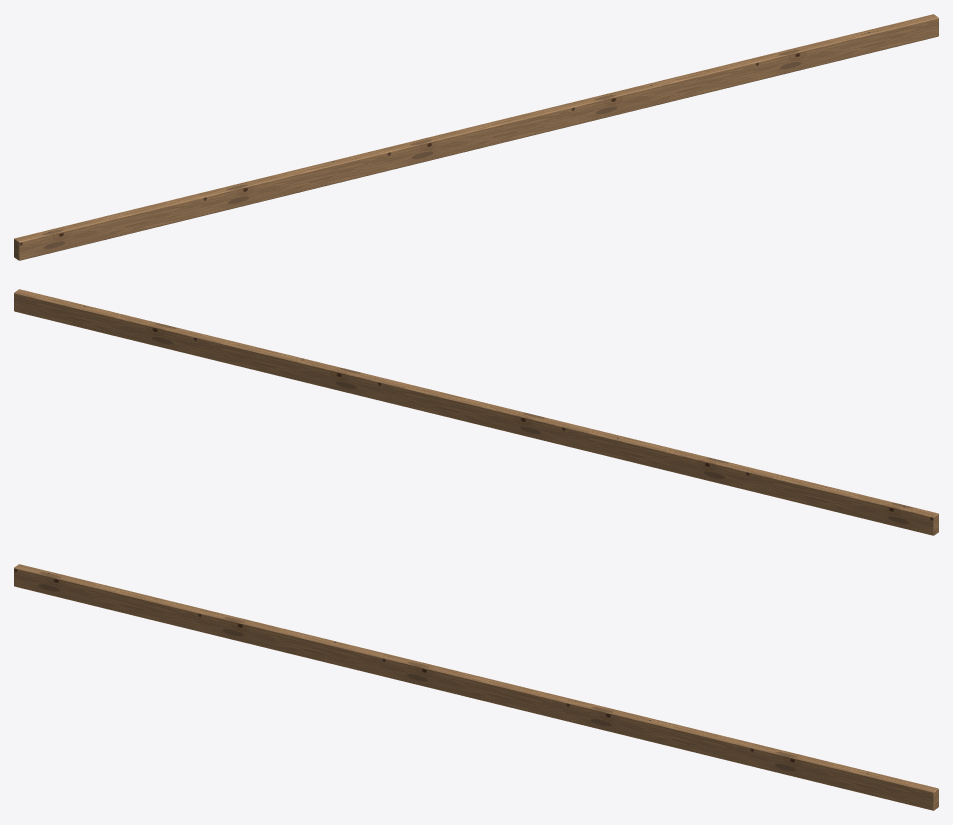
Rendered from gk_joist.glb.
3 renders of one model, top to bottom at view 1: azimuth 30°, elevation 25°; view 2: azimuth 150°, elevation 25°; view 3: azimuth 330°, elevation 25°, orthographic.
Parts seen in each view (by area): view 1: p; view 2: p; view 3: p.
Boxes of the visible parts, <box> form: p: <box>14,14,938,260</box>; p: <box>14,289,938,535</box>; p: <box>14,564,938,810</box>.
Bounding box in the file's own units: 5 × 0.102 × 0.05.
Materials: 2 (2 with a texture image).
